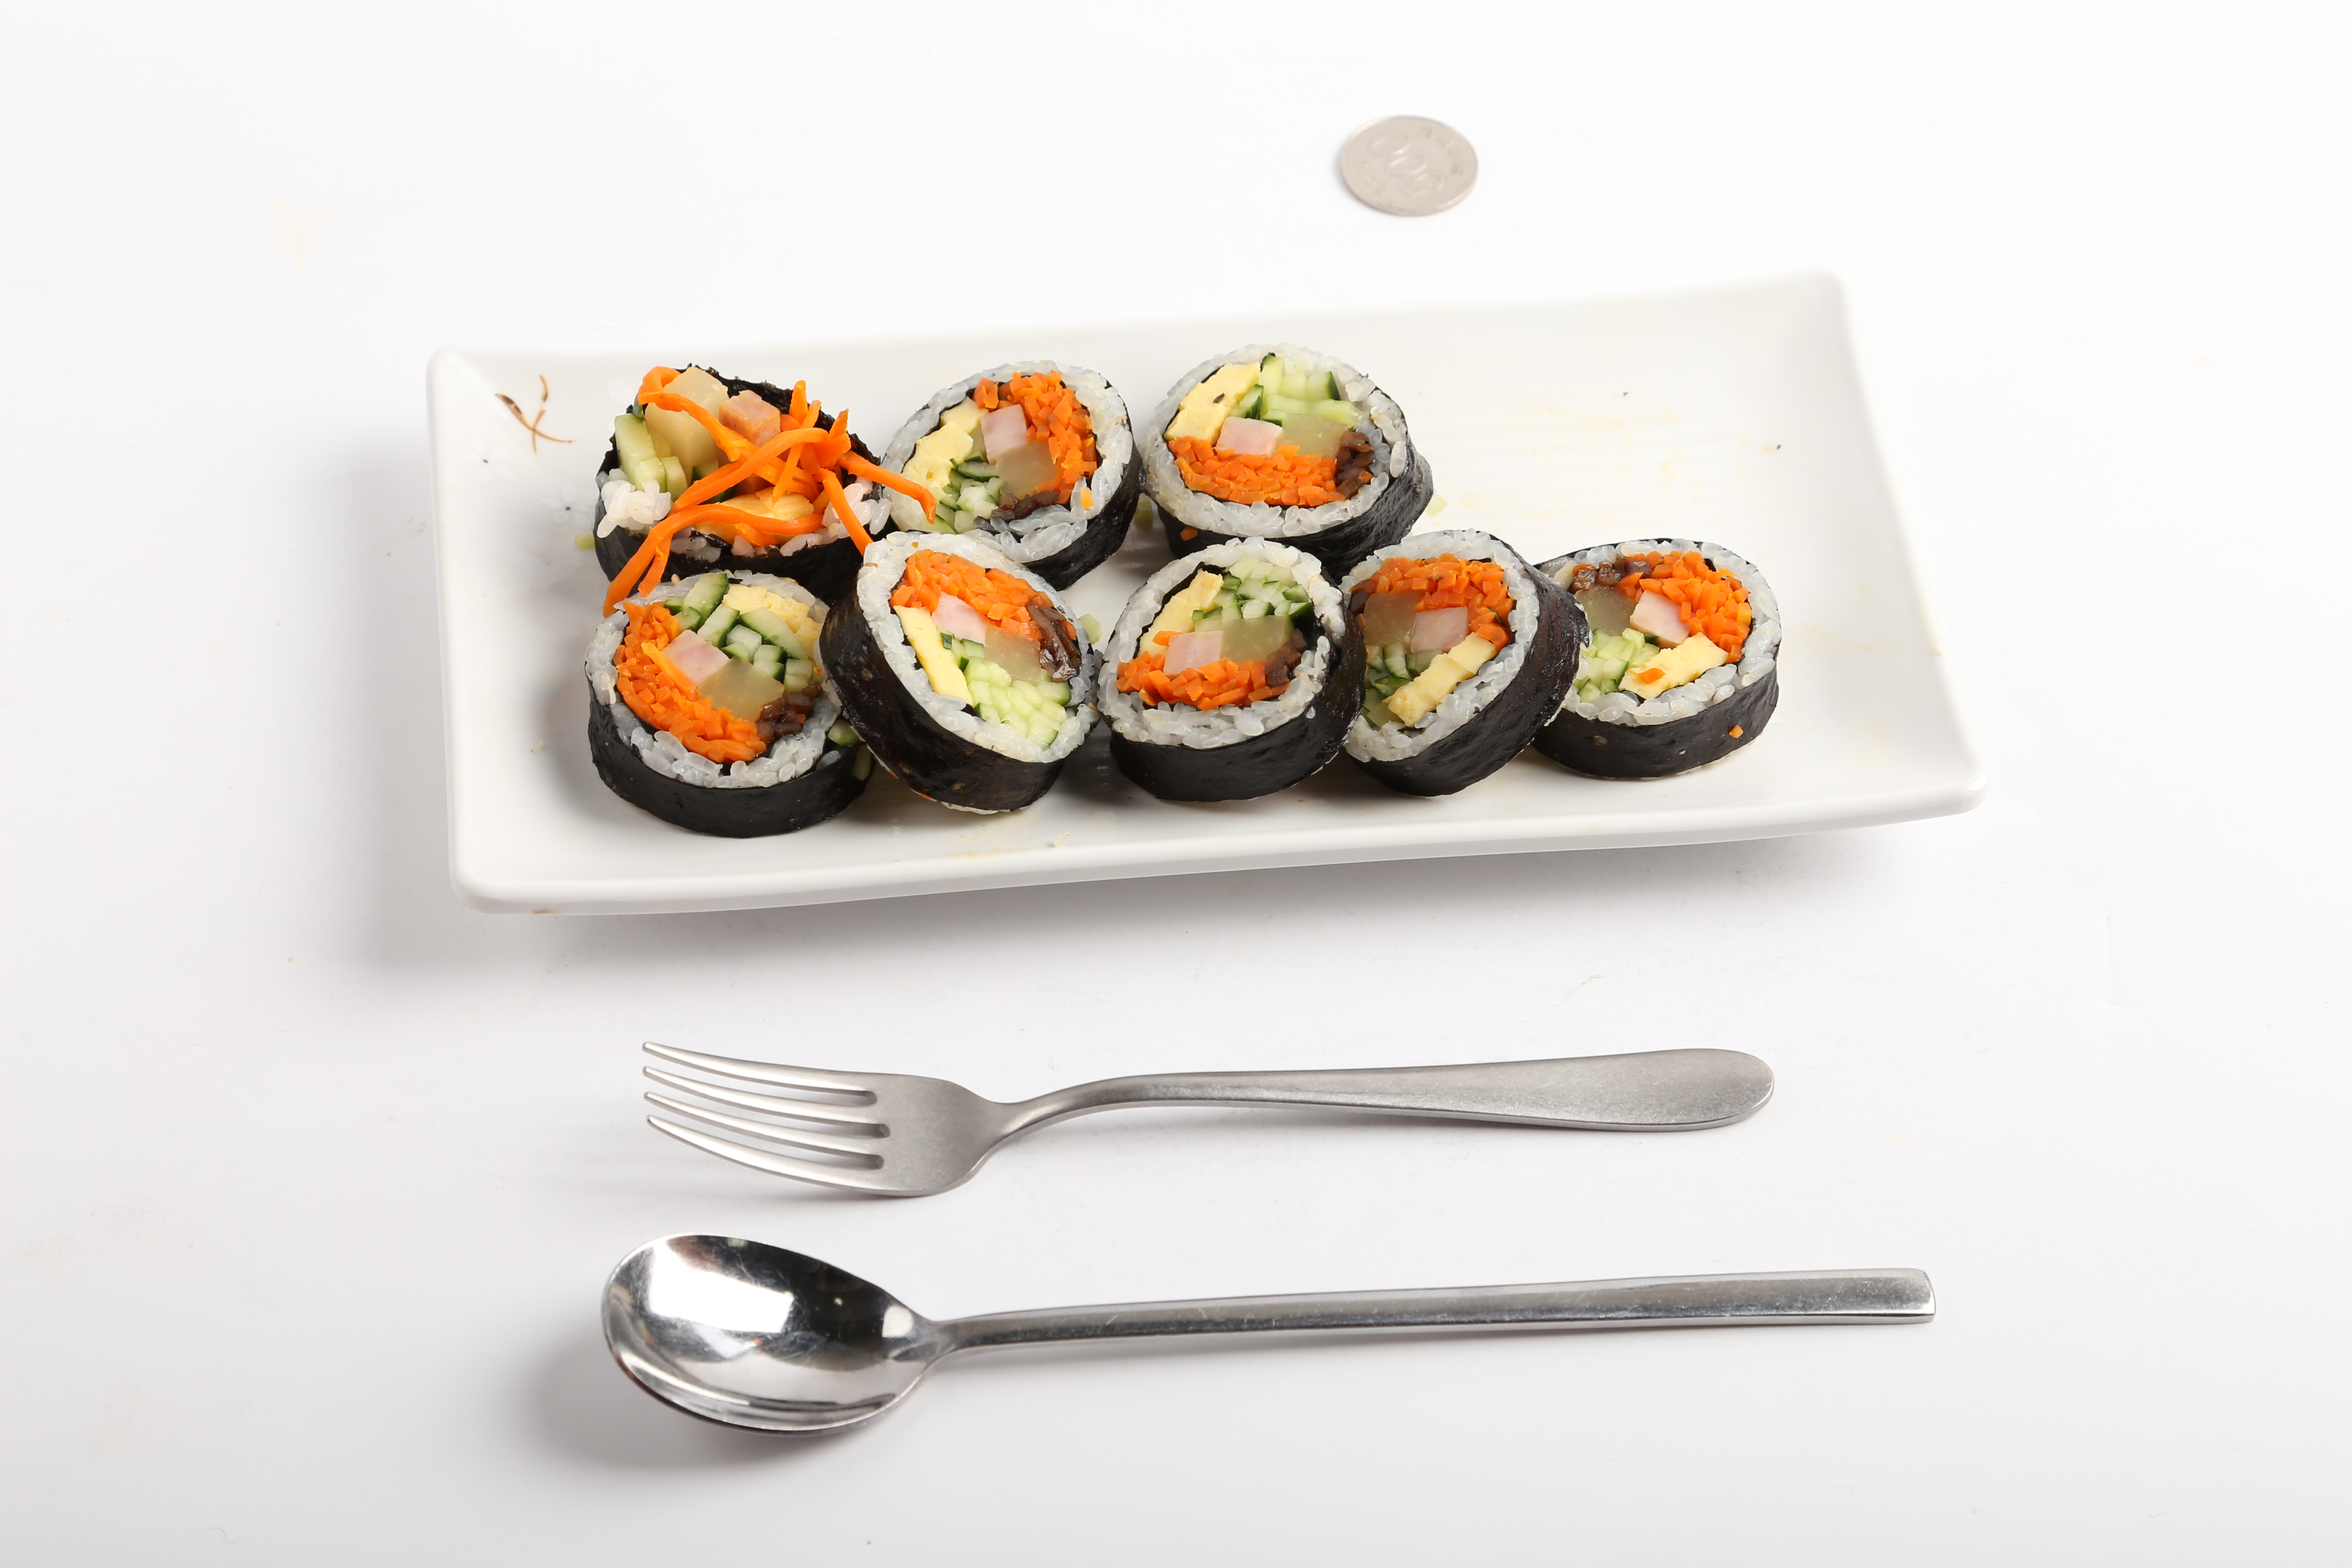dish: (422, 259, 1997, 920)
ref_coin: (1328, 103, 1480, 227)
ref_fork: (635, 1029, 1076, 1207)
ref_spoon: (593, 1227, 1010, 1444)
김밥: (574, 350, 1783, 838)
